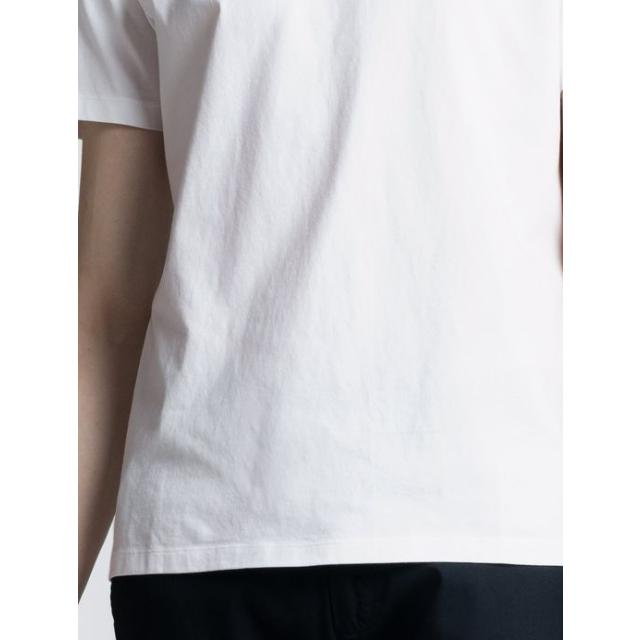cotton: (78, 0, 562, 562)
